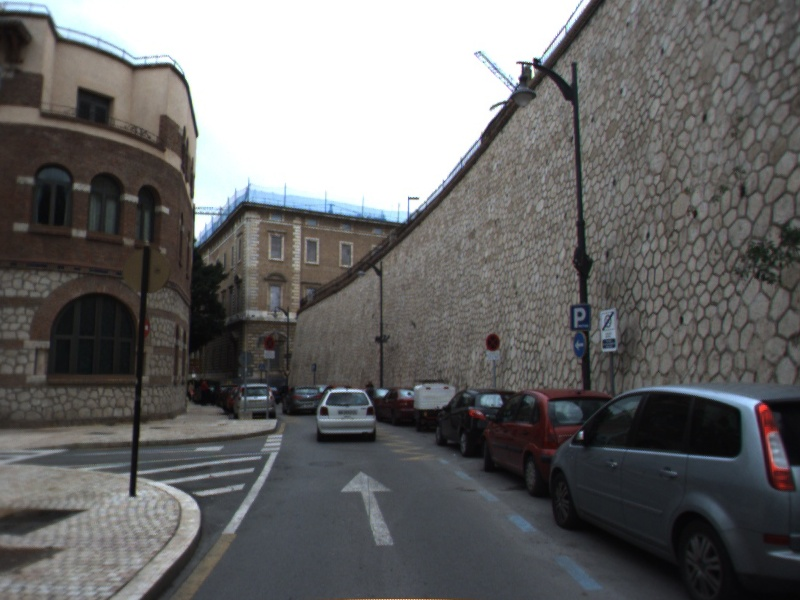STRAIGHT: (339, 469, 395, 547)
